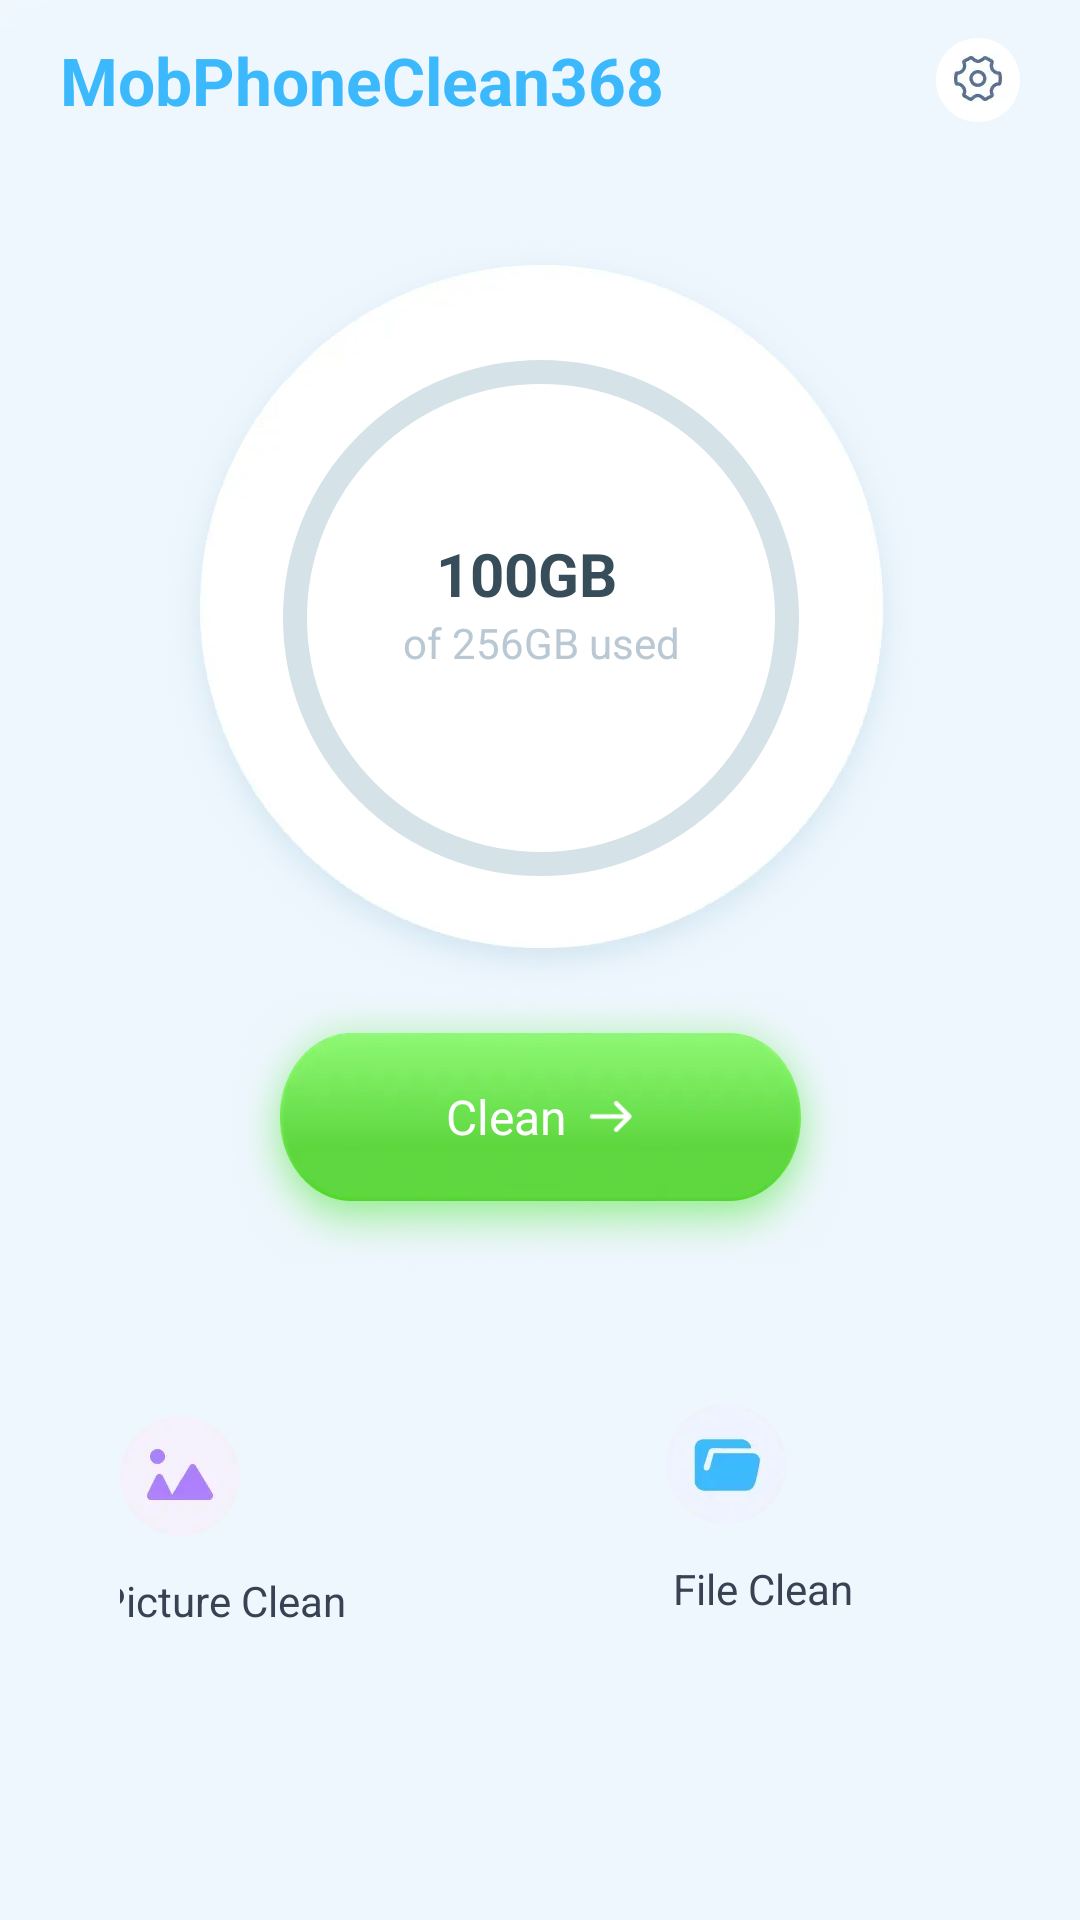

Where icons sit on this 1080 x 1920 app screen, as [left=x1, top=y1, right=x2, bottom=y2]:
set: [left=936, top=38, right=1020, bottom=122]
